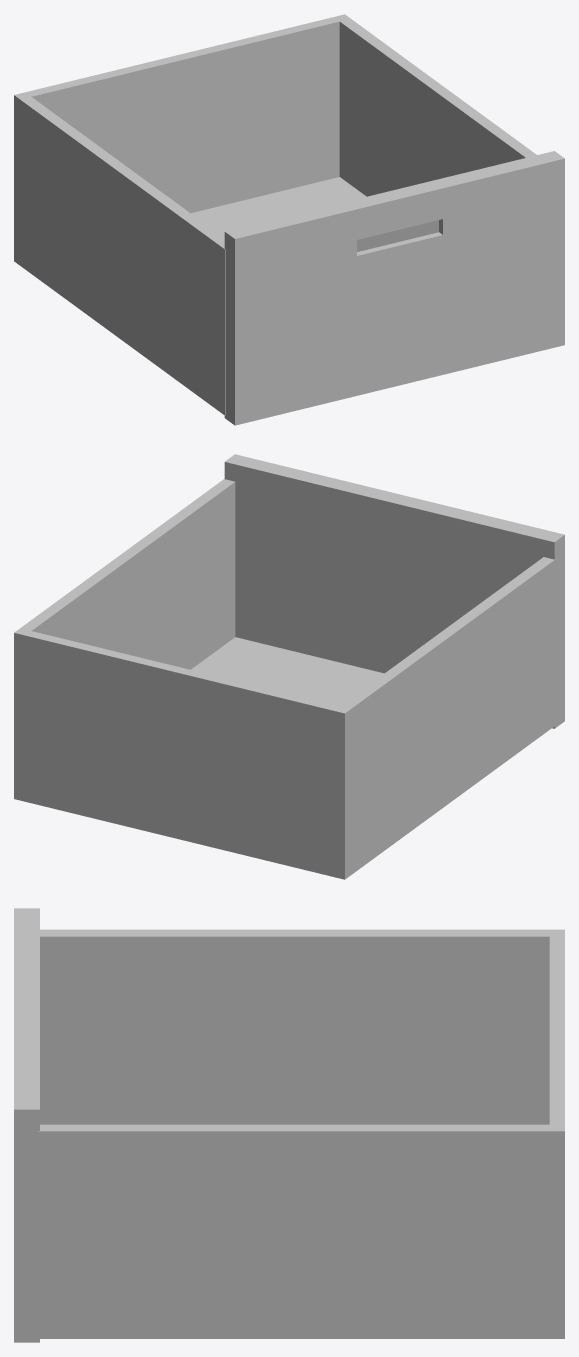
The model's file is Refrigerator3_C2_03.fbx.
The picture shows the model from 3 angles, top to bottom: view 1: azimuth 30°, elevation 25°; view 2: azimuth 150°, elevation 25°; view 3: azimuth 270°, elevation 25°; orthographic projection. The views are drawn at different scales.
Parts seen in each view (by area): view 1: Refrigerator3_C2_03; view 2: Refrigerator3_C2_03; view 3: Refrigerator3_C2_03.
Boxes of the visible parts, x1,y1,x2,y2 form: Refrigerator3_C2_03: (14, 14, 564, 425); Refrigerator3_C2_03: (14, 454, 564, 879); Refrigerator3_C2_03: (14, 908, 564, 1342).
Bounding box in the file's own units: 43.24 × 23.3 × 49.92.
